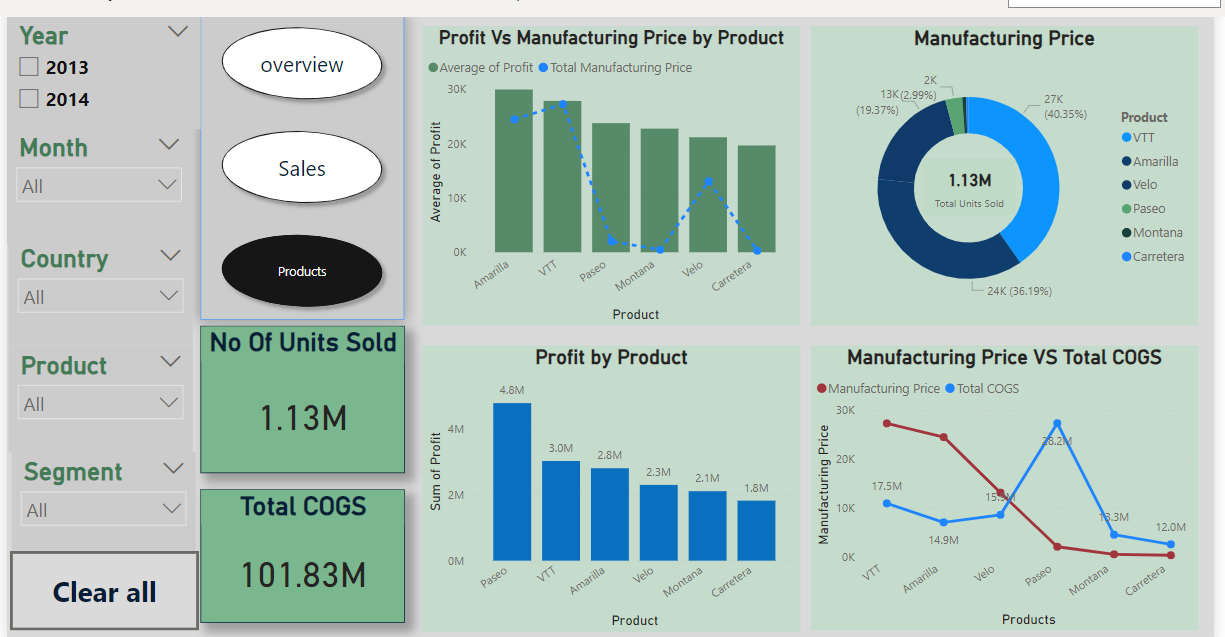

Layout of this report page (visuals, bound fields, positions):
{"tool":"powerbi","page":{"name":"Products","canvas":[1280,720],"ordinal":2},"visuals":[{"type":"textbox","box":[9.5,0,1270.9,55.7],"z":0},{"type":"pageNavigator","box":[205.2,55.7,216.3,322.9],"z":1000},{"type":"slicer","fields":{"Values":["financials.Year"]},"box":[0,55.7,205.2,120.9],"z":2000},{"type":"slicer","fields":{"Values":["financials.Month Name"]},"box":[0,175,195.6,124.1],"z":3000},{"type":"slicer","fields":{"Values":["financials.Country"]},"box":[1.6,292.7,195.6,112.9],"z":4000},{"type":"slicer","fields":{"Values":["financials.Product"]},"box":[1.6,405.6,195.6,112.9],"z":5000},{"type":"slicer","fields":{"Values":["financials.Segment"]},"box":[4.8,518.5,195.6,105],"z":6000},{"type":"card","title":"No Of Units Sold","fields":{"Values":["Sum(financials.Units Sold)"]},"box":[205.6,385.5,216.6,156],"z":7000},{"type":"card","title":"Total COGS","fields":{"Values":["Sum(financials.COGS)"]},"box":[205.6,558,216.6,141.3],"z":8000},{"type":"columnChart","title":" Profit by Product","fields":{"Category":["financials.Product"],"Y":["Sum(financials.Profit)"]},"box":[440.6,405.6,400.8,303.8],"z":9000},{"type":"lineClusteredColumnComboChart","title":" Profit Vs Manufacturing Price by Product","fields":{"Category":["financials.Product"],"Y":["Avg(financials.Profit)"],"Y2":["Sum(financials.Manufacturing Price)"]},"box":[440.6,66.8,400.8,318.1],"z":10000},{"type":"donutChart","title":"Manufacturing Price ","fields":{"Y":["Sum(financials.Manufacturing Price)"],"Category":["financials.Product"]},"box":[852.6,66.8,410.4,318.1],"z":11000},{"type":"card","fields":{"Values":["Sum(financials.Units Sold)"]},"box":[971.9,206.8,97,60.4],"z":12000},{"type":"lineChart","title":"Manufacturing Price VS Total COGS ","fields":{"Category":["financials.Product"],"Y":["Sum(financials.Manufacturing Price)"],"Y2":["Sum(financials.COGS)"]},"box":[852.6,405.6,410.4,302.2],"z":13000},{"type":"actionButton","box":[3.2,623.5,200.4,84.3],"z":14000}]}

Visuals, with their boxes on the page's 1280x720 design canvas (x1, y1, x2, y2). These are canvas units, not pixel positions in the 1225x637 screenshot, which may show the page scaled, cropped or inside an application window:
textbox: box(10, 0, 1280, 56)
pageNavigator: box(205, 56, 422, 379)
slicer - financials.Year: box(0, 56, 205, 177)
slicer - financials.Month Name: box(0, 175, 196, 299)
slicer - financials.Country: box(2, 293, 197, 406)
slicer - financials.Product: box(2, 406, 197, 518)
slicer - financials.Segment: box(5, 518, 200, 624)
"No Of Units Sold" card: box(206, 386, 422, 542)
"Total COGS" card: box(206, 558, 422, 699)
" Profit by Product" columnChart: box(441, 406, 841, 709)
" Profit Vs Manufacturing Price by Product" lineClusteredColumnComboChart: box(441, 67, 841, 385)
"Manufacturing Price " donutChart: box(853, 67, 1263, 385)
card - Sum(financials.Units Sold): box(972, 207, 1069, 267)
"Manufacturing Price VS Total COGS " lineChart: box(853, 406, 1263, 708)
actionButton: box(3, 624, 204, 708)
